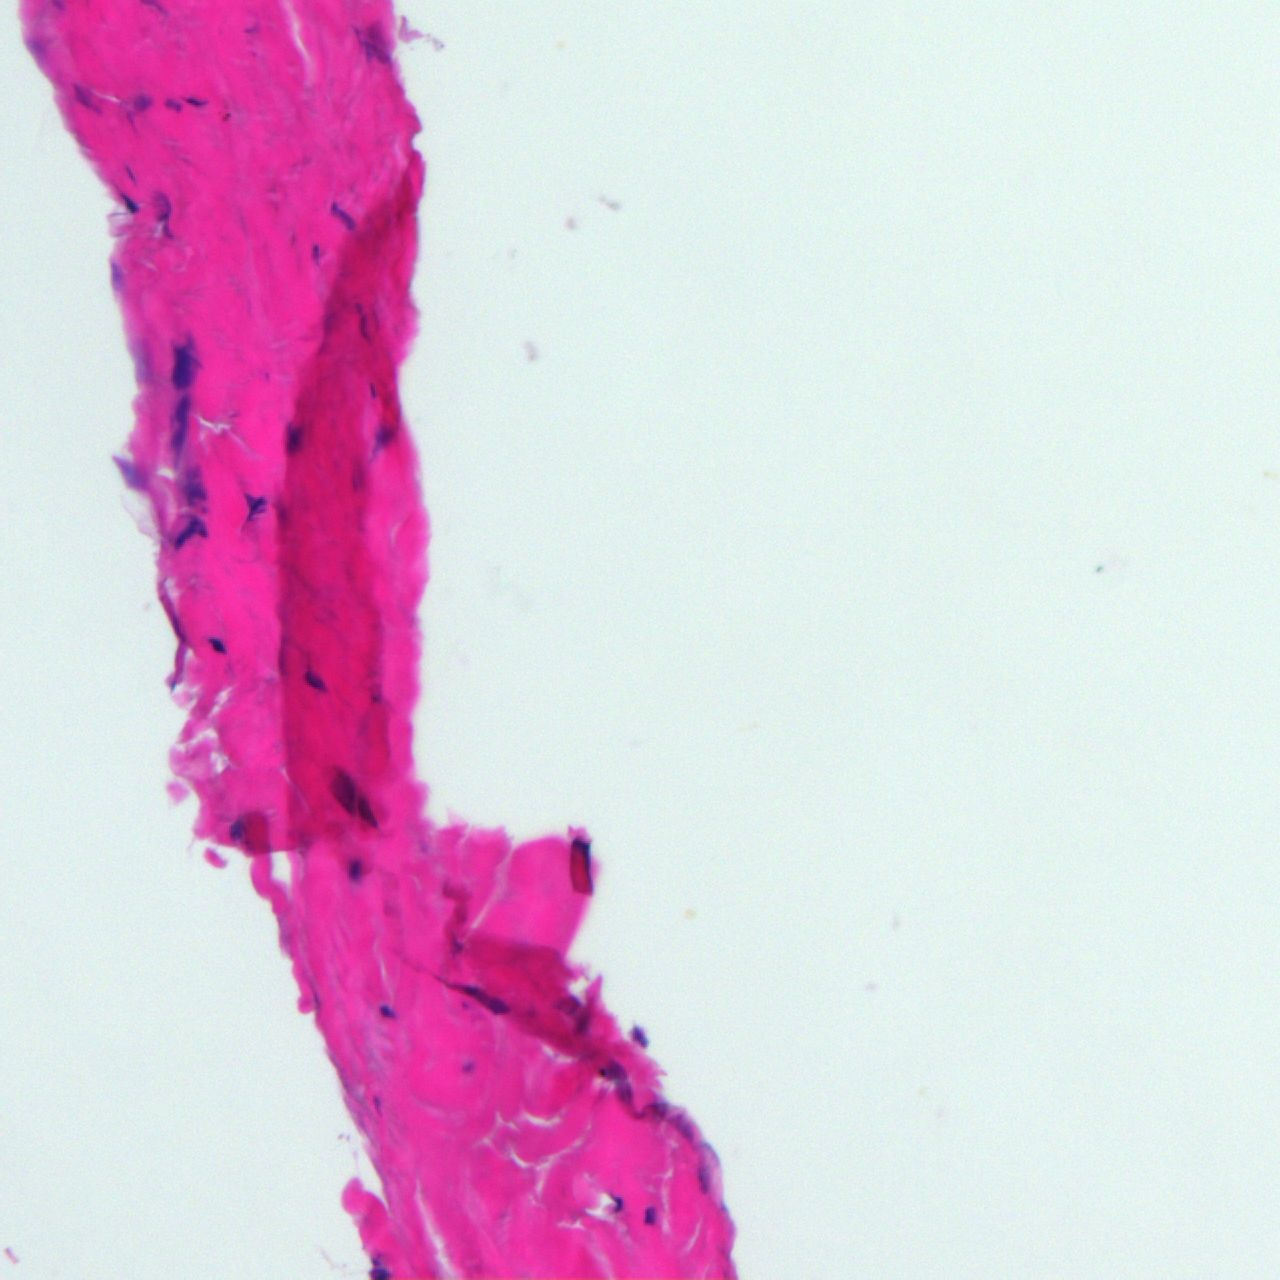nucleus-HE: (166, 512, 213, 561), (125, 340, 159, 396), (170, 394, 192, 467), (170, 338, 198, 392), (367, 417, 397, 465), (68, 80, 104, 120), (328, 763, 356, 813), (568, 836, 592, 896), (324, 199, 359, 234), (113, 186, 143, 219), (297, 667, 329, 697), (156, 189, 172, 238), (244, 489, 267, 523), (182, 477, 207, 508), (284, 422, 304, 457), (358, 790, 375, 829), (204, 632, 229, 658), (343, 856, 363, 887), (356, 301, 372, 342), (368, 1255, 392, 1280), (695, 1159, 710, 1194), (613, 1080, 634, 1104), (227, 813, 243, 842), (484, 998, 508, 1015), (132, 93, 152, 113), (631, 1024, 648, 1047), (376, 1001, 397, 1019), (641, 1204, 658, 1225), (162, 97, 182, 114), (184, 94, 207, 107), (458, 1058, 477, 1074), (309, 241, 321, 263), (612, 1190, 622, 1212), (598, 1065, 605, 1076)
